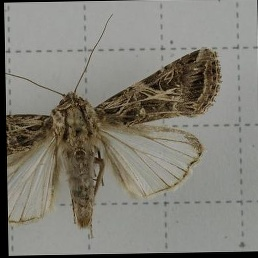Spodoptera litura: (6, 13, 225, 238)
